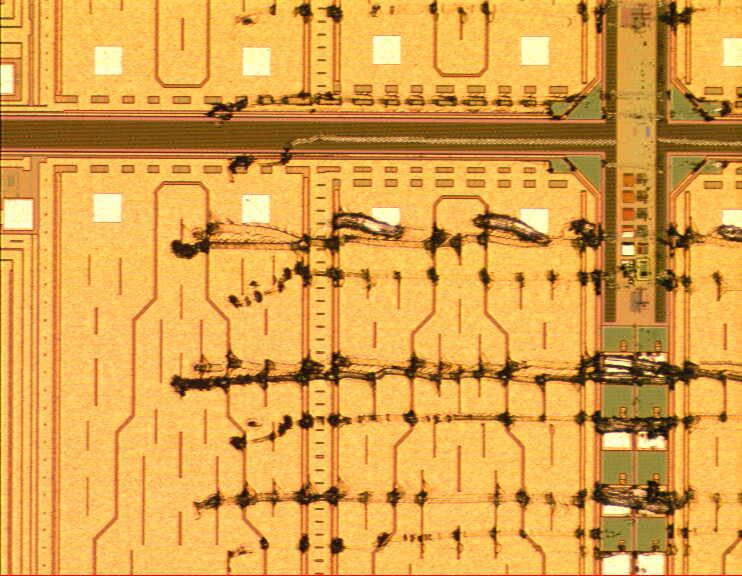SCRATCH: (165, 1, 742, 576)
